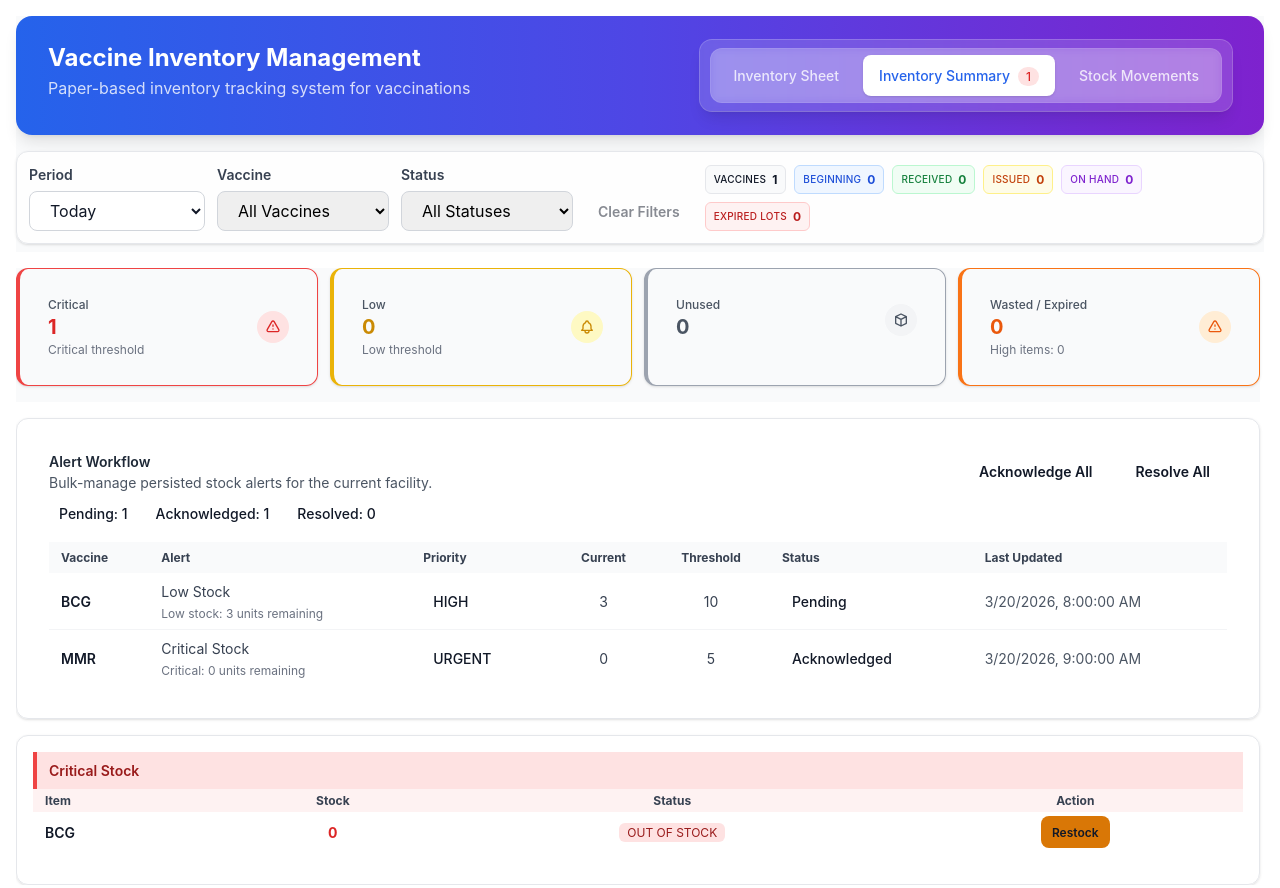
Inventory Management stock-alert bulk actions › shows admin-only bulk controls and refreshes statuses after acknowledge-all and resolve-all
Expected: the button "Resolve All" is shown, x1=1118 y1=451 x2=1227 y2=491
Step 1. Click the button "Acknowledge All" → (1036, 471), box x1=961 y1=451 x2=1110 y2=491
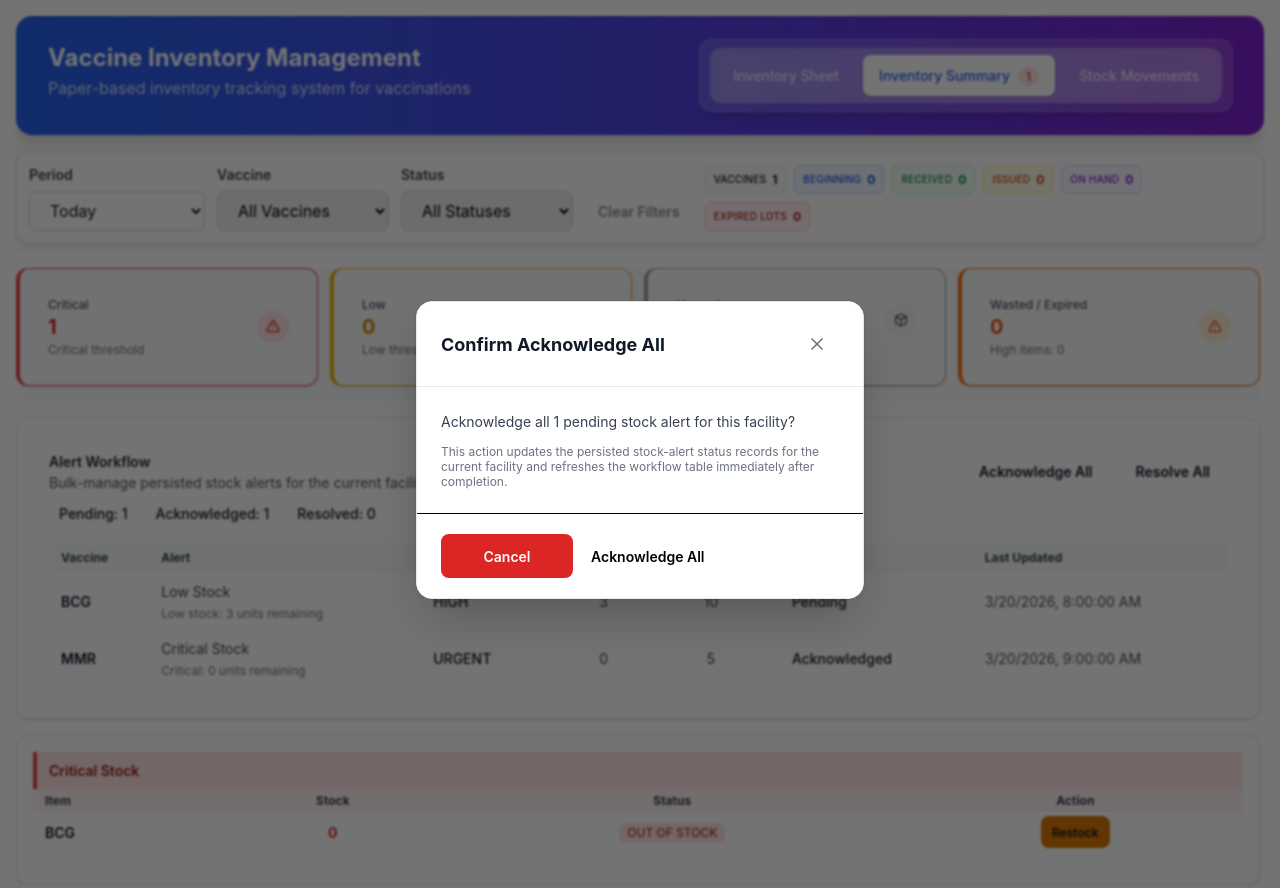
Expected: the dialog "Confirm Acknowledge All" shows "Acknowledge all 1 pending stock alert", x1=441 y1=413 x2=795 y2=430
Step 2. Click the button "Acknowledge All" → (648, 556), box x1=573 y1=534 x2=722 y2=578
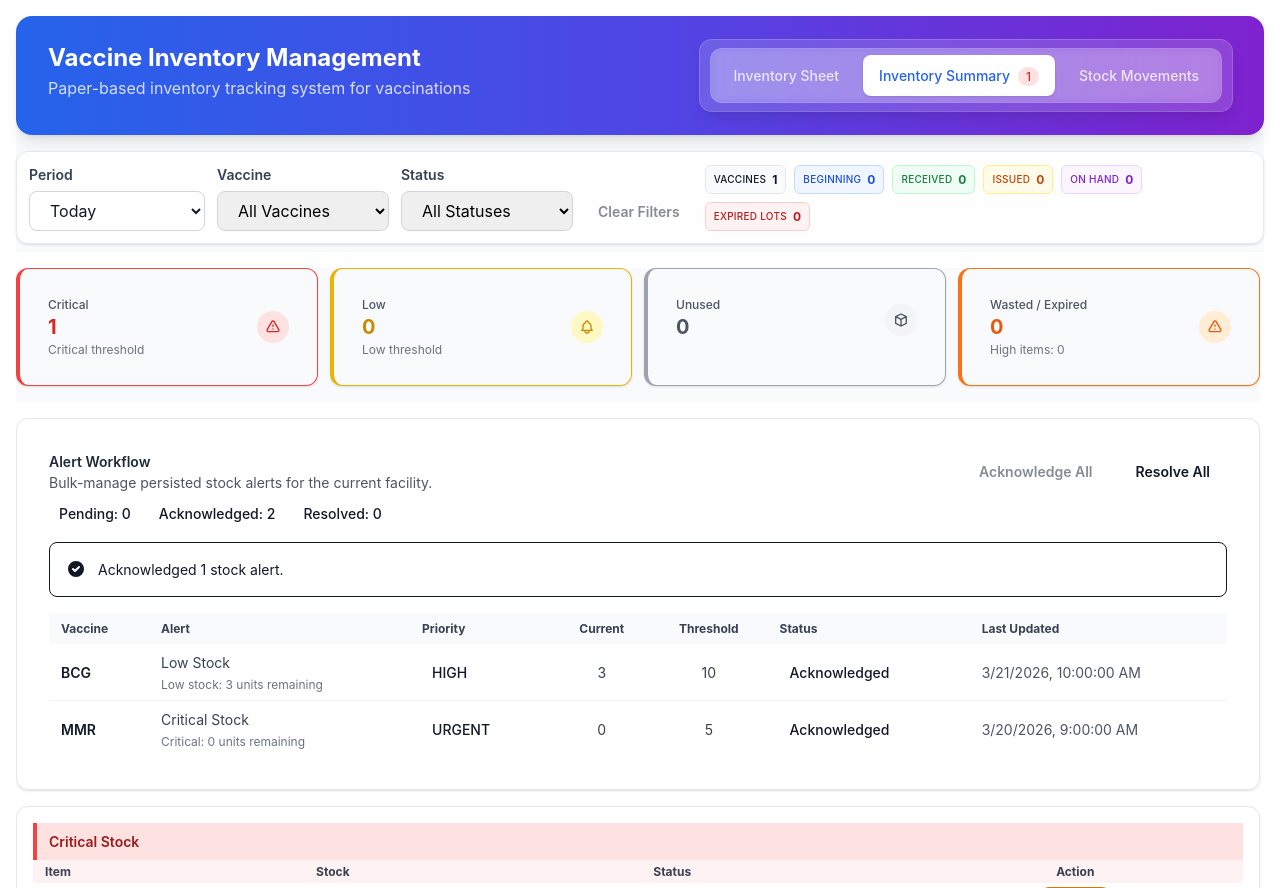
Expected: the text "Acknowledged 1 stock alert." is shown, x1=98 y1=561 x2=284 y2=578
Expected: the text "Pending: 0" is shown, x1=59 y1=505 x2=131 y2=522
Expected: the text "Acknowledged: 2" is shown, x1=149 y1=501 x2=285 y2=526
Step 3. Click the button "Resolve All" → (1173, 471), box x1=1118 y1=451 x2=1227 y2=491
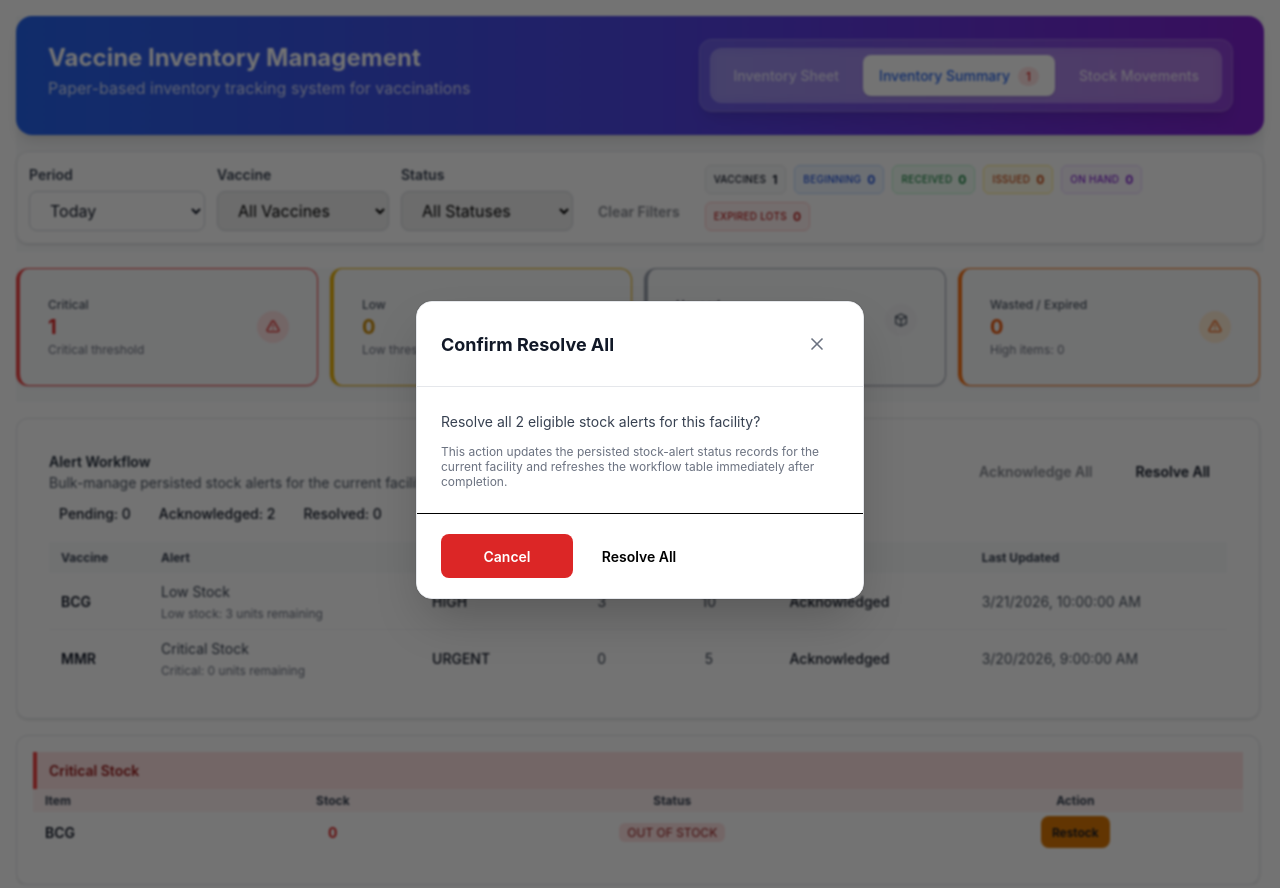
Expected: the dialog "Confirm Resolve All" shows "Resolve all 2 eligible stock alerts", x1=441 y1=413 x2=760 y2=430
Step 4. Click the button "Resolve All" → (639, 556), box x1=573 y1=534 x2=705 y2=578
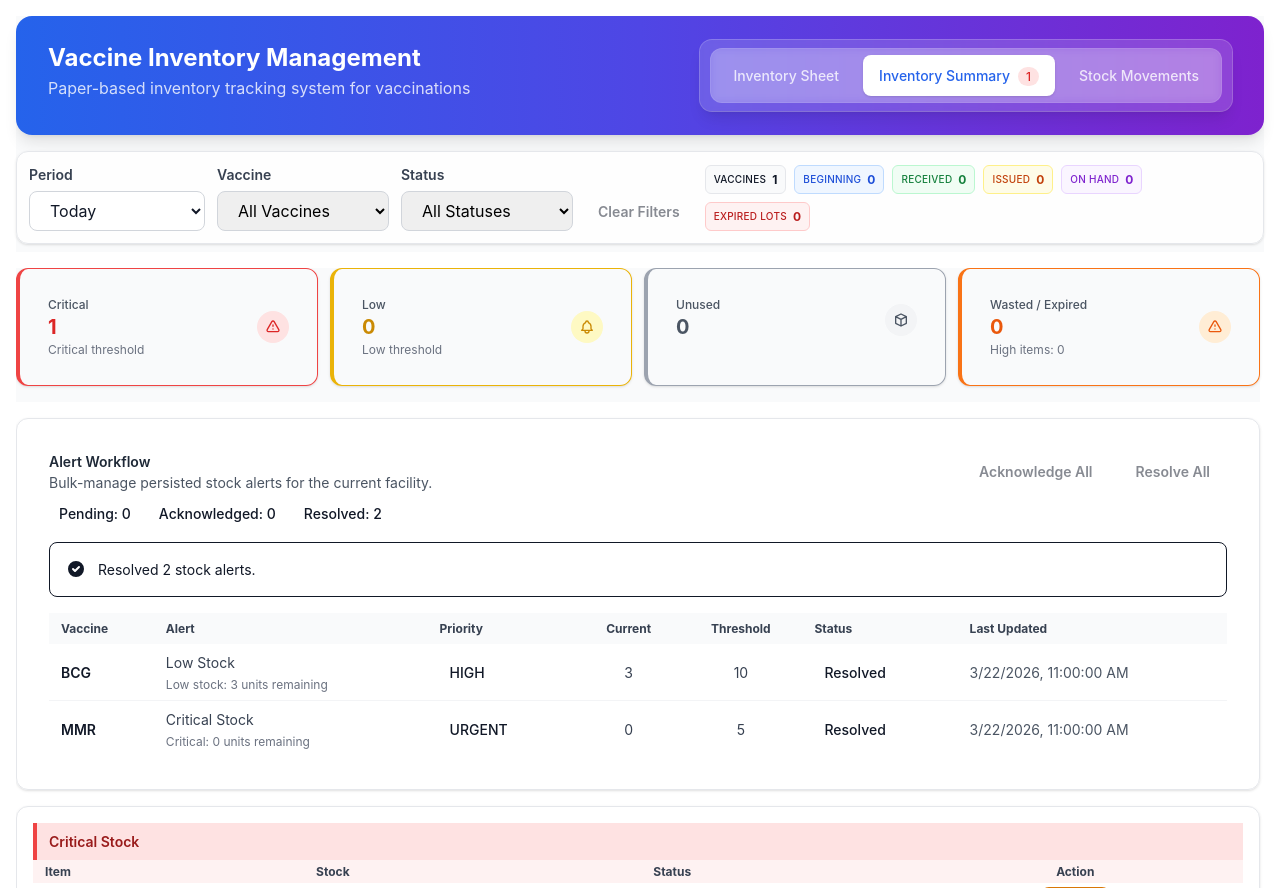
Expected: the text "Resolved 2 stock alerts." is shown, x1=98 y1=561 x2=256 y2=578
Expected: the text "Resolved: 2" is shown, x1=304 y1=505 x2=382 y2=522
